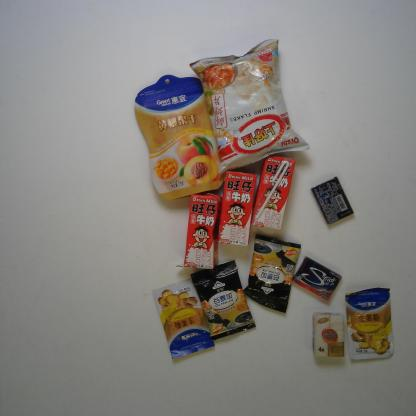Dried Fruit: (134, 74, 225, 202)
Gum: (291, 256, 342, 302), (310, 175, 354, 227)
Instant Drink: (190, 259, 257, 341), (243, 232, 302, 314)
Milk: (175, 190, 221, 270), (250, 154, 296, 231), (217, 170, 257, 246)
Puffed Food: (188, 36, 312, 180)
Seasoner: (152, 278, 216, 360), (344, 286, 394, 362)
Tissue: (312, 311, 345, 358)
